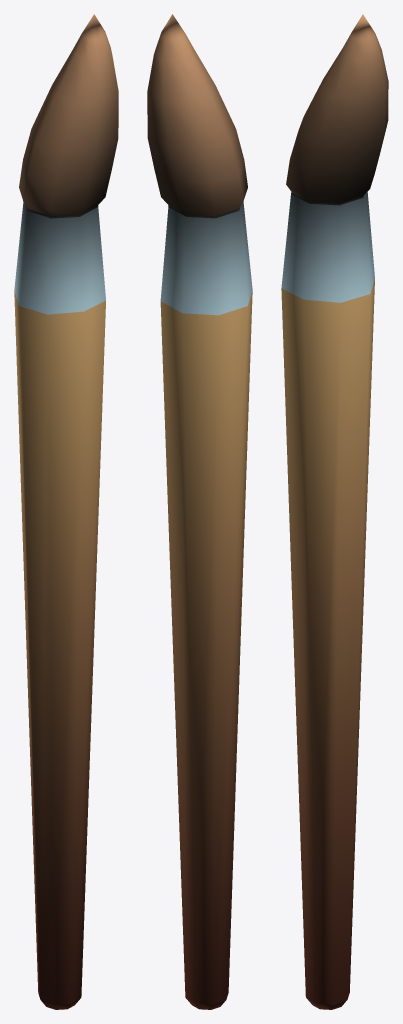
File: brush_001.glb
3 renders of one model, left to right at view 1: azimuth 30°, elevation 25°; view 2: azimuth 150°, elevation 25°; view 3: azimuth 330°, elevation 25°, orthographic.
Parts seen in each view (by area): view 1: brush.001; view 2: brush.001; view 3: brush.001.
Boxes of the visible parts, left/top/right/bottom form: brush.001: left=14, top=14, right=118, bottom=1009; brush.001: left=147, top=14, right=252, bottom=1009; brush.001: left=281, top=14, right=388, bottom=1009.
Size of the model in its own units: 0.0439 by 0.4246 by 0.0373.
Materials: 1 (1 with a texture image).
